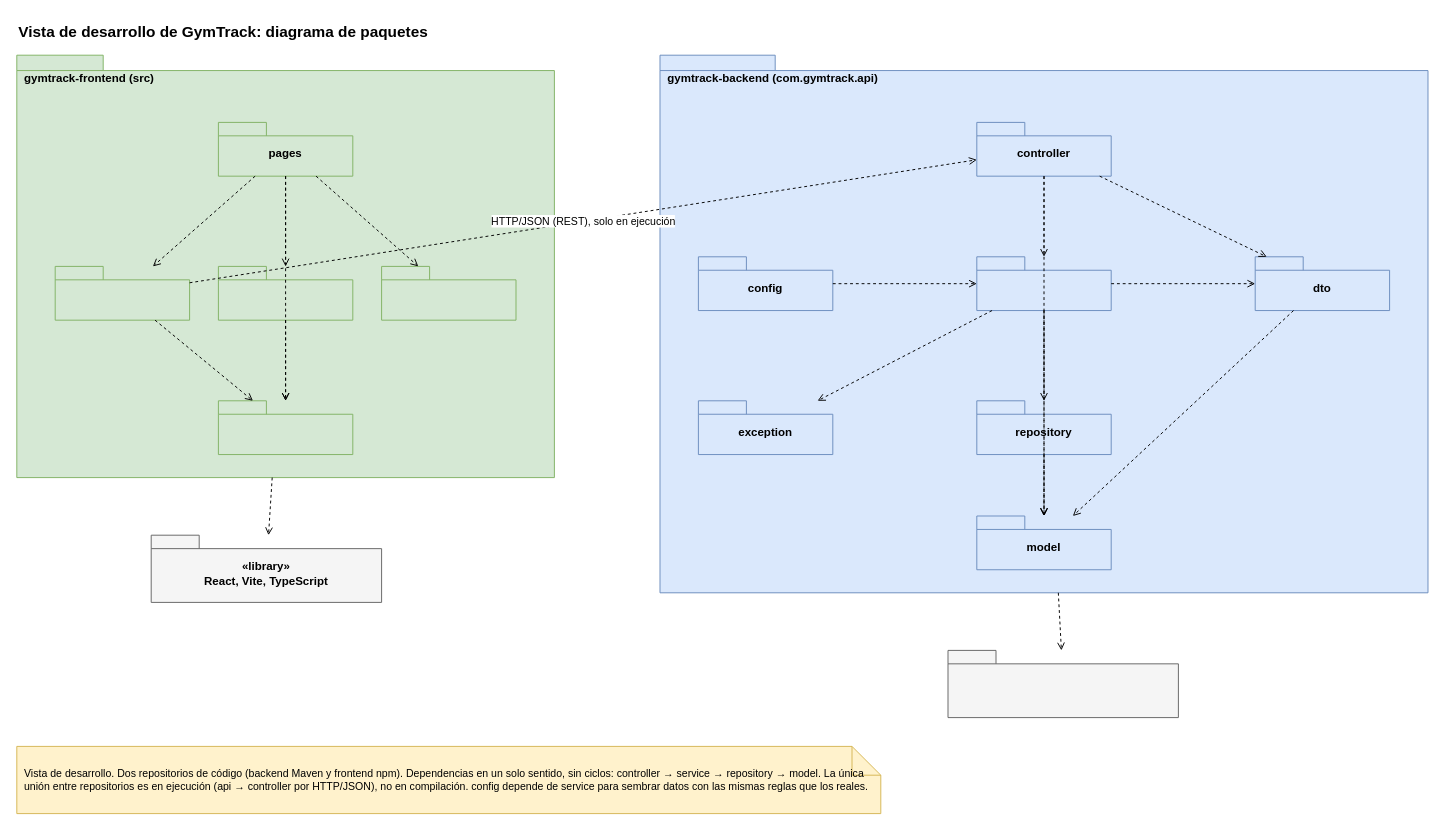
The diagram is 1445 pixels wide and 830 high, and some of its shapes have lost their labels. The box of each missing label's shape, as (x1, y1, x2, y2) in pixels:
api: (54, 265, 190, 320)
components: (381, 265, 516, 320)
service: (976, 256, 1111, 311)
state: (217, 265, 353, 320)
types: (217, 400, 353, 455)
«library» Spring Boot starters: (947, 649, 1178, 718)
